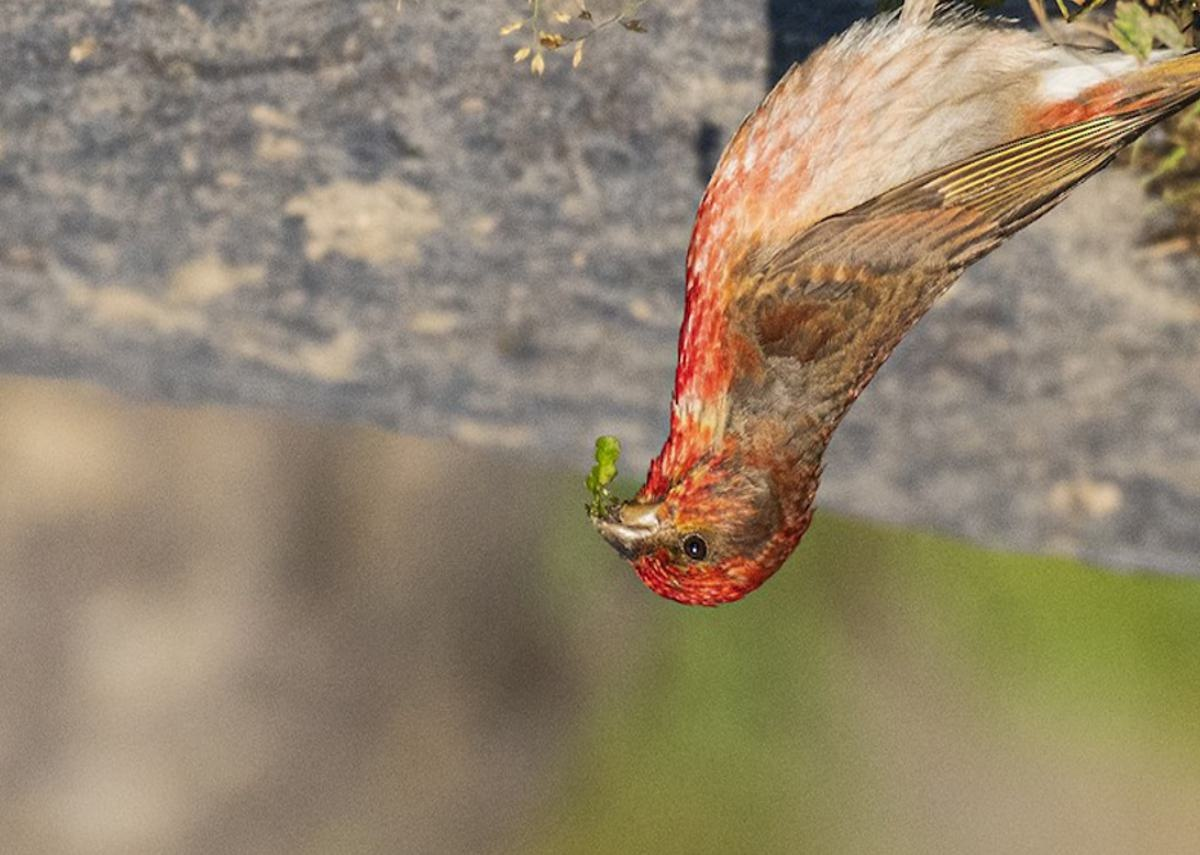rosefinch: (570, 19, 1108, 650)
